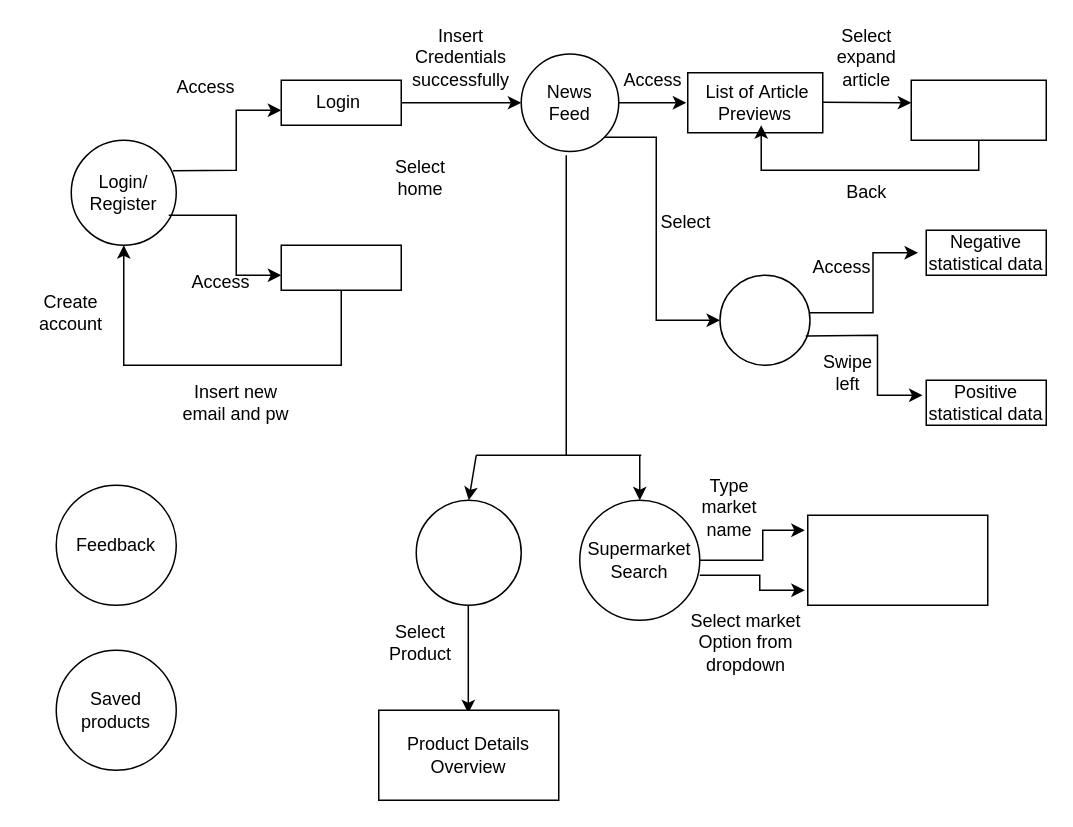
Some shapes in this 1073 by 827 pixel diagram are drawn without their labels. The shapes that lost their labels are listed below. From the top down, each one's centre as x and y in pixels, then its label:
At (x=978, y=109): "Detailed Article Overview".
At (x=340, y=267): "Register".
At (x=764, y=319): "Statistical data".
At (x=468, y=552): "Destaques".
At (x=897, y=559): "Supermarket Location on map".
